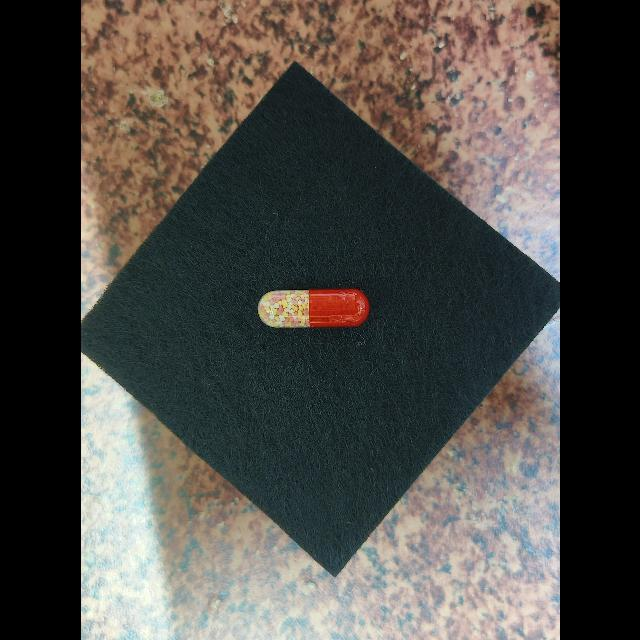Intact Capsule: (257, 288, 369, 328)
